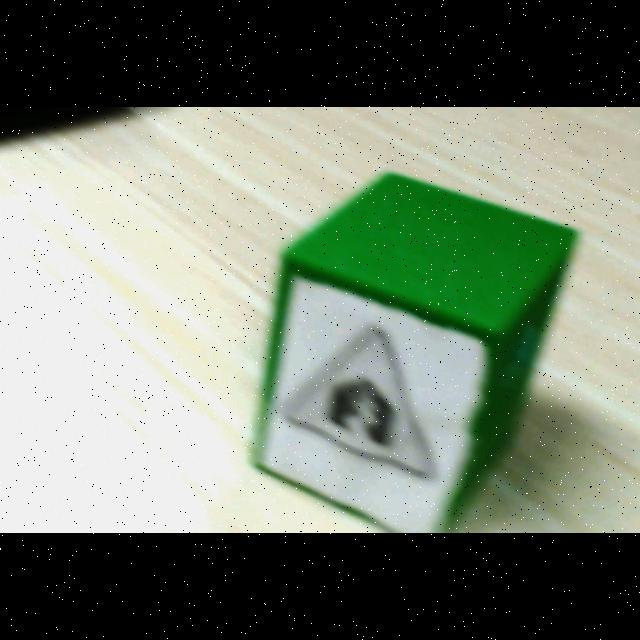Earthquake: (280, 326, 439, 481)
